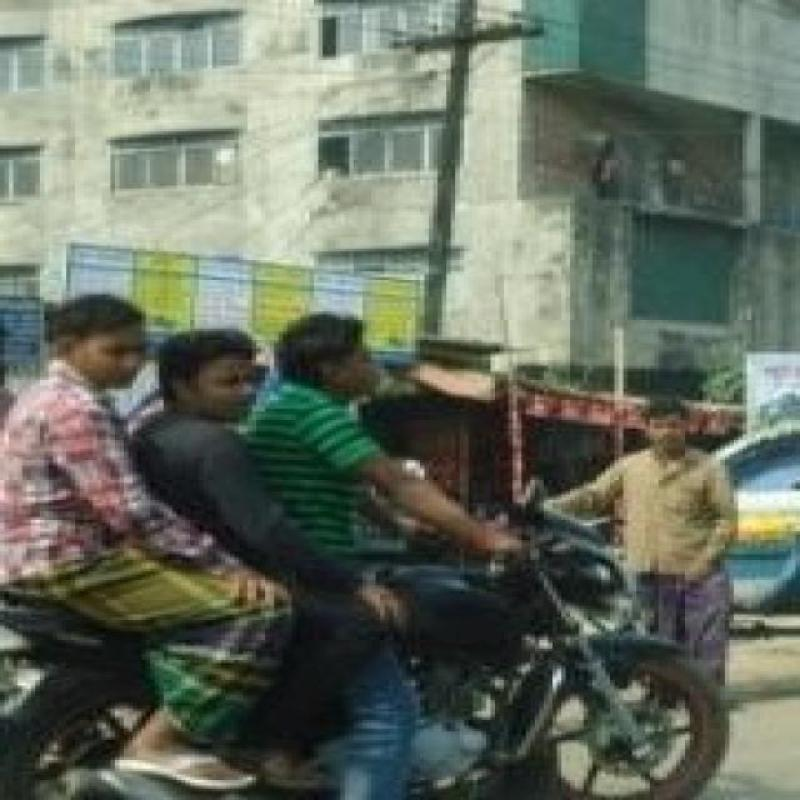nohelmet: (267, 290, 413, 422), (34, 268, 156, 388)
